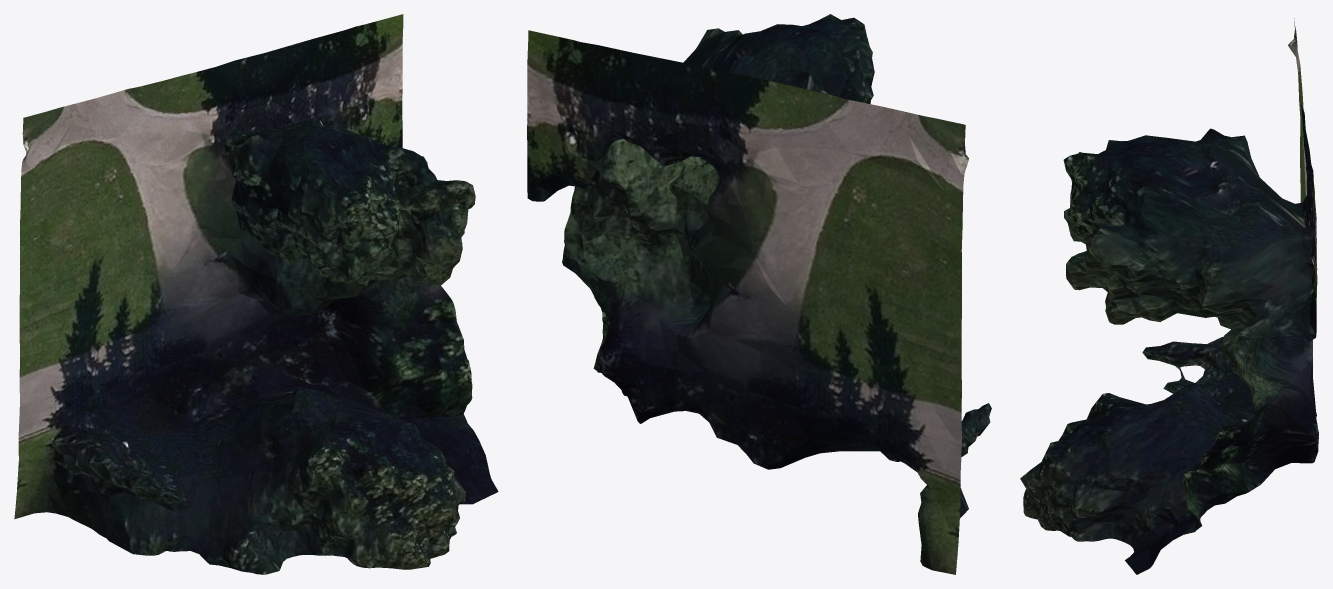
File: Tile_+038_+020_L20_0000110.obj
The picture shows the model from 3 angles, left to right: view 1: azimuth 30°, elevation 25°; view 2: azimuth 150°, elevation 25°; view 3: azimuth 270°, elevation 25°; orthographic projection. The views are drawn at different scales.
Size of the model in its own units: 31.5 by 31.38 by 22.25.
1 material, 1 textured.
